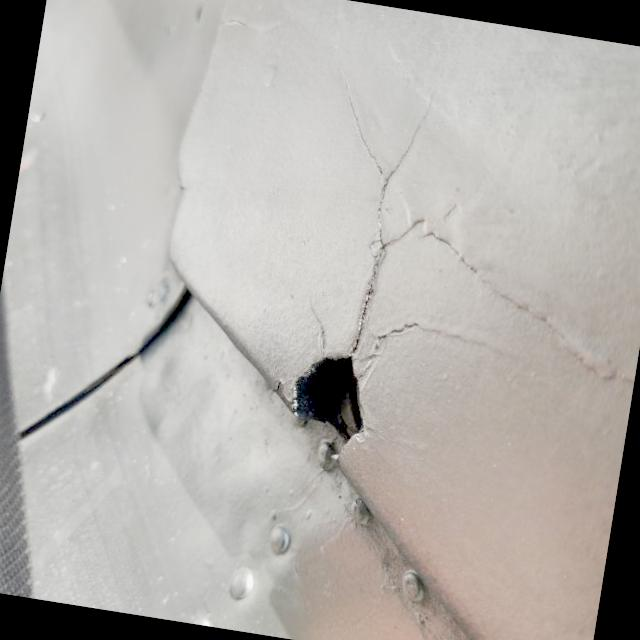crack: (208, 56, 507, 506)
